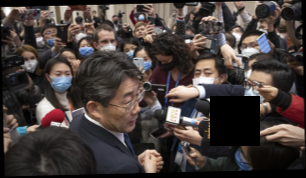mask_weared_incorrect: (44, 25, 58, 44)
with_mask: (242, 76, 269, 107), (191, 65, 220, 92), (233, 137, 255, 169), (49, 67, 73, 93), (20, 52, 39, 74), (239, 39, 261, 58), (135, 53, 153, 72), (156, 57, 177, 72), (97, 36, 116, 51), (228, 26, 242, 45), (78, 40, 95, 55), (122, 44, 138, 58), (242, 64, 254, 80), (34, 32, 46, 47), (74, 29, 89, 41), (258, 23, 268, 35), (137, 12, 145, 21), (111, 16, 119, 23), (171, 8, 177, 14)
without_mask: (99, 82, 142, 132), (60, 52, 77, 68), (135, 25, 146, 38)
